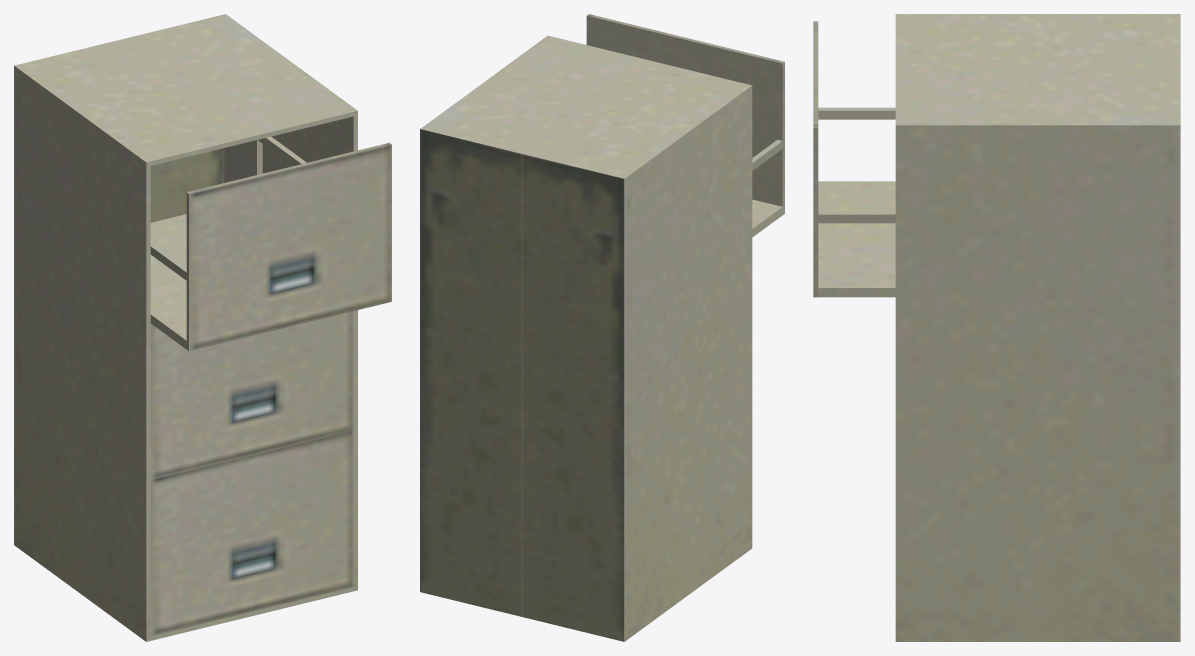
Rendered from file_cabinet_smaller_with_shelfs.obj.
The picture shows the model from 3 angles, left to right: view 1: azimuth 30°, elevation 25°; view 2: azimuth 150°, elevation 25°; view 3: azimuth 270°, elevation 25°; orthographic projection. The views are drawn at different scales.
Visible parts, largest first — view 1: file_cabinet_smaller_with_shelfs; view 2: file_cabinet_smaller_with_shelfs; view 3: file_cabinet_smaller_with_shelfs.
Part boxes in pixels (x1=…): file_cabinet_smaller_with_shelfs: x1=14, y1=14, x2=391, y2=641; file_cabinet_smaller_with_shelfs: x1=420, y1=14, x2=784, y2=641; file_cabinet_smaller_with_shelfs: x1=813, y1=14, x2=1180, y2=641.
Bounding box in the file's own units: 0.4847 × 1.05 × 0.6763.
